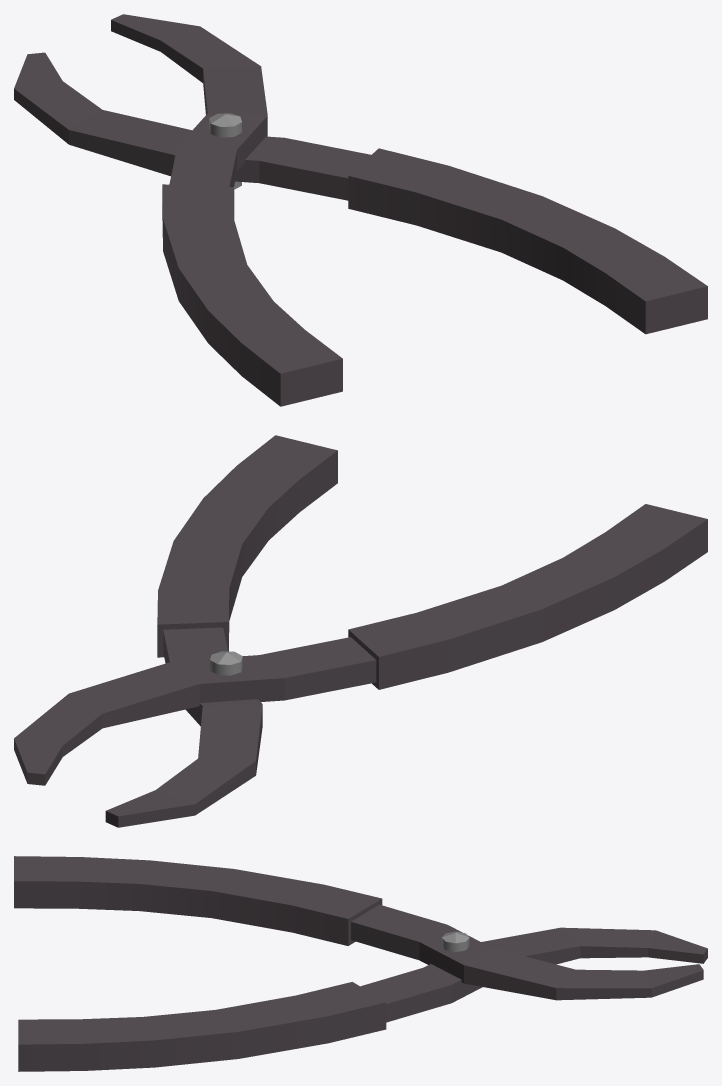
Rendered from SM_tool_03.fbx.
3 renders of one model, top to bottom at view 1: azimuth 30°, elevation 25°; view 2: azimuth 150°, elevation 25°; view 3: azimuth 270°, elevation 25°, orthographic. The views are drawn at different scales.
Parts seen in each view (by area): view 1: tool_03; view 2: tool_03; view 3: tool_03.
Part boxes in pixels (x1,y1,x2,y2): tool_03: [14, 14, 707, 406]; tool_03: [14, 435, 707, 827]; tool_03: [14, 856, 707, 1071].
Size of the model in its own units: 27.01 by 4.5 by 45.85.
